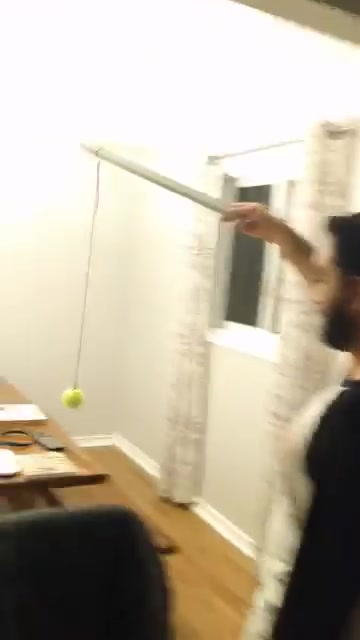tennis_ball: (60, 386, 84, 410)
